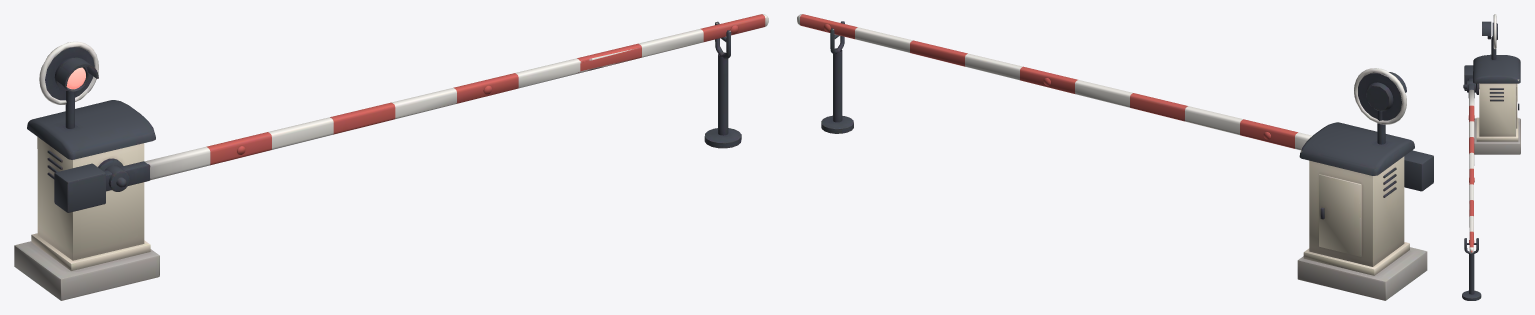
The model's file is level-crossing-gate.glb.
3 renders of one model, left to right at view 1: azimuth 30°, elevation 25°; view 2: azimuth 150°, elevation 25°; view 3: azimuth 270°, elevation 25°, orthographic. The views are drawn at different scales.
Parts seen in each view (by area): view 1: level-crossing-gate_body, level-crossing-gate_boom; view 2: level-crossing-gate_body, level-crossing-gate_boom; view 3: level-crossing-gate_body, level-crossing-gate_boom.
Part boxes in pixels (bbox=[...]): level-crossing-gate_body: bbox=[14, 21, 741, 300]; level-crossing-gate_boom: bbox=[54, 14, 768, 212]; level-crossing-gate_body: bbox=[821, 21, 1427, 300]; level-crossing-gate_boom: bbox=[797, 14, 1433, 191]; level-crossing-gate_body: bbox=[1462, 14, 1520, 300]; level-crossing-gate_boom: bbox=[1464, 65, 1475, 253].
Size of the model in its own units: 7.05 by 2.25 by 0.98.
3 materials, 2 textured.
